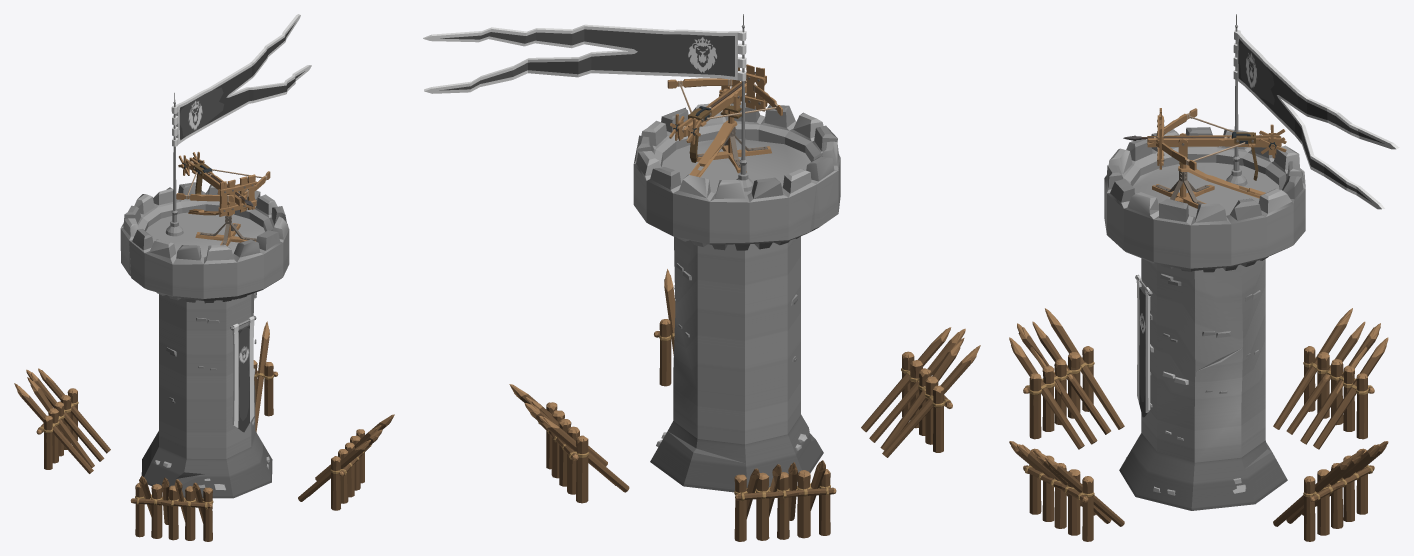
File: Attacker.fbx
3 renders of one model, left to right at view 1: azimuth 30°, elevation 25°; view 2: azimuth 150°, elevation 25°; view 3: azimuth 270°, elevation 25°, orthographic. The views are drawn at different scales.
Visible parts, largest first — view 1: Attacker.001; view 2: Attacker.001; view 3: Attacker.001.
Boxes of the visible parts, x1,y1,x2,y2 form: Attacker.001: [14, 14, 394, 541]; Attacker.001: [423, 14, 980, 541]; Attacker.001: [1009, 14, 1399, 541].
Size of the model in its own units: 5829 by 6797 by 5255.
